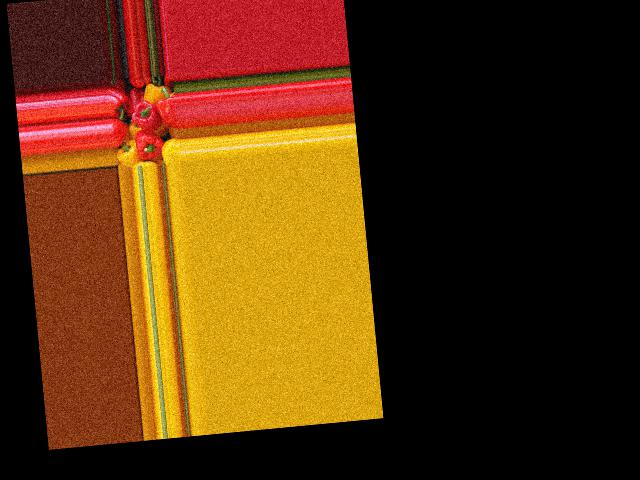bell_pepper: (117, 141, 142, 168)
